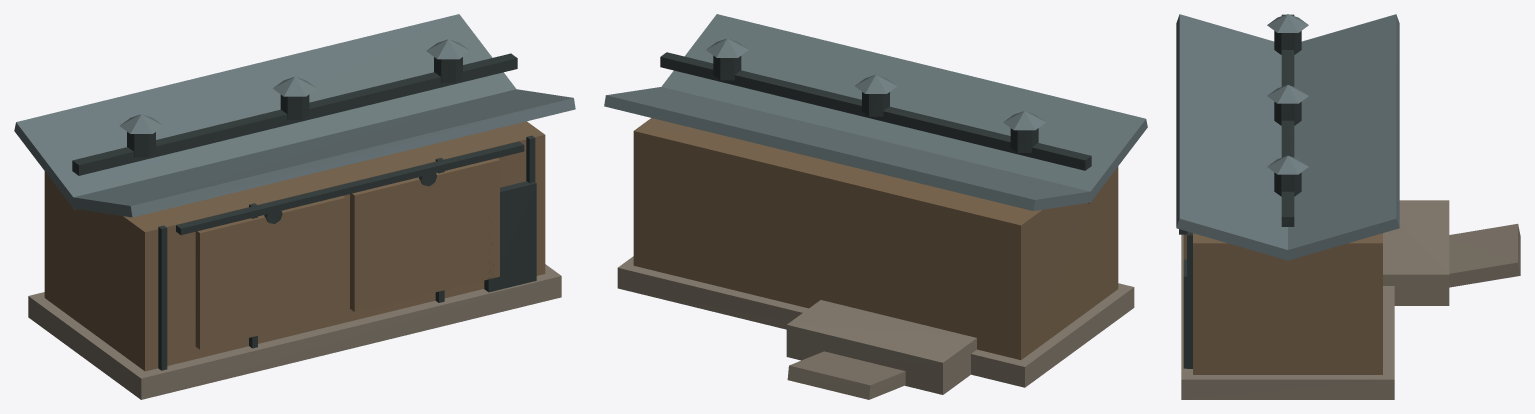
The model's file is warehouse.source.glb.
The picture shows the model from 3 angles, left to right: view 1: azimuth 30°, elevation 25°; view 2: azimuth 150°, elevation 25°; view 3: azimuth 270°, elevation 25°; orthographic projection. The views are drawn at different scales.
Visible parts, largest first — view 1: warehouse-shallow-galvanized-gable-roof-mesh (×2), warehouse-long-timber-metal-body-mesh, warehouse-left-wide-loading-door-mesh, warehouse-right-wide-loading-door-mesh, warehouse-low-stone-foundation-mesh, warehouse-roof-ridge-mesh, warehouse-double-door-iron-track-mesh, warehouse-small-service-door-mesh, warehouse-roof-vent-mesh (×3), warehouse-roof-vent-cap-mesh (×3), warehouse-front-iron-brace-mesh; view 2: warehouse-long-timber-metal-body-mesh, warehouse-shallow-galvanized-gable-roof-mesh (×2), warehouse-raised-side-loading-dock-mesh, warehouse-low-stone-foundation-mesh, warehouse-roof-ridge-mesh, warehouse-short-dock-ramp-mesh, warehouse-roof-vent-mesh (×3), warehouse-roof-vent-cap-mesh (×3); view 3: warehouse-shallow-galvanized-gable-roof-mesh (×2), warehouse-long-timber-metal-body-mesh, warehouse-low-stone-foundation-mesh, warehouse-raised-side-loading-dock-mesh, warehouse-short-dock-ramp-mesh, warehouse-roof-vent-cap-mesh (×3), warehouse-roof-vent-mesh (×3), warehouse-roof-ridge-mesh, warehouse-front-iron-brace-mesh, warehouse-small-service-door-mesh.
Boxes of the visible parts, bbox=[...] form: warehouse-shallow-galvanized-gable-roof-mesh (×2): bbox=[14, 14, 575, 217]; warehouse-long-timber-metal-body-mesh: bbox=[44, 121, 545, 371]; warehouse-left-wide-loading-door-mesh: bbox=[195, 196, 345, 349]; warehouse-right-wide-loading-door-mesh: bbox=[350, 158, 499, 311]; warehouse-low-stone-foundation-mesh: bbox=[28, 264, 561, 399]; warehouse-roof-ridge-mesh: bbox=[72, 53, 517, 175]; warehouse-double-door-iron-track-mesh: bbox=[176, 141, 524, 235]; warehouse-small-service-door-mesh: bbox=[484, 181, 536, 292]; warehouse-roof-vent-mesh (×3): bbox=[127, 57, 462, 157]; warehouse-roof-vent-cap-mesh (×3): bbox=[119, 39, 470, 133]; warehouse-front-iron-brace-mesh: bbox=[158, 225, 167, 370]; warehouse-long-timber-metal-body-mesh: bbox=[633, 118, 1118, 359]; warehouse-shallow-galvanized-gable-roof-mesh (×2): bbox=[604, 14, 1147, 210]; warehouse-raised-side-loading-dock-mesh: bbox=[786, 300, 976, 394]; warehouse-low-stone-foundation-mesh: bbox=[617, 256, 1134, 387]; warehouse-roof-ridge-mesh: bbox=[660, 52, 1091, 170]; warehouse-short-dock-ramp-mesh: bbox=[787, 351, 905, 399]; warehouse-roof-vent-mesh (×3): bbox=[713, 55, 1038, 152]; warehouse-roof-vent-cap-mesh (×3): bbox=[706, 38, 1045, 130]; warehouse-shallow-galvanized-gable-roof-mesh (×2): bbox=[1176, 14, 1399, 260]; warehouse-long-timber-metal-body-mesh: bbox=[1193, 233, 1382, 374]; warehouse-low-stone-foundation-mesh: bbox=[1181, 234, 1394, 399]; warehouse-raised-side-loading-dock-mesh: bbox=[1383, 200, 1449, 305]; warehouse-short-dock-ramp-mesh: bbox=[1449, 223, 1520, 287]; warehouse-roof-vent-cap-mesh (×3): bbox=[1267, 14, 1308, 174]; warehouse-roof-vent-mesh (×3): bbox=[1274, 31, 1301, 196]; warehouse-roof-ridge-mesh: bbox=[1281, 14, 1294, 226]; warehouse-front-iron-brace-mesh: bbox=[1187, 232, 1192, 368]; warehouse-small-service-door-mesh: bbox=[1183, 259, 1186, 368].
Size of the model in its own units: 3.9 by 1.94 by 2.78.
